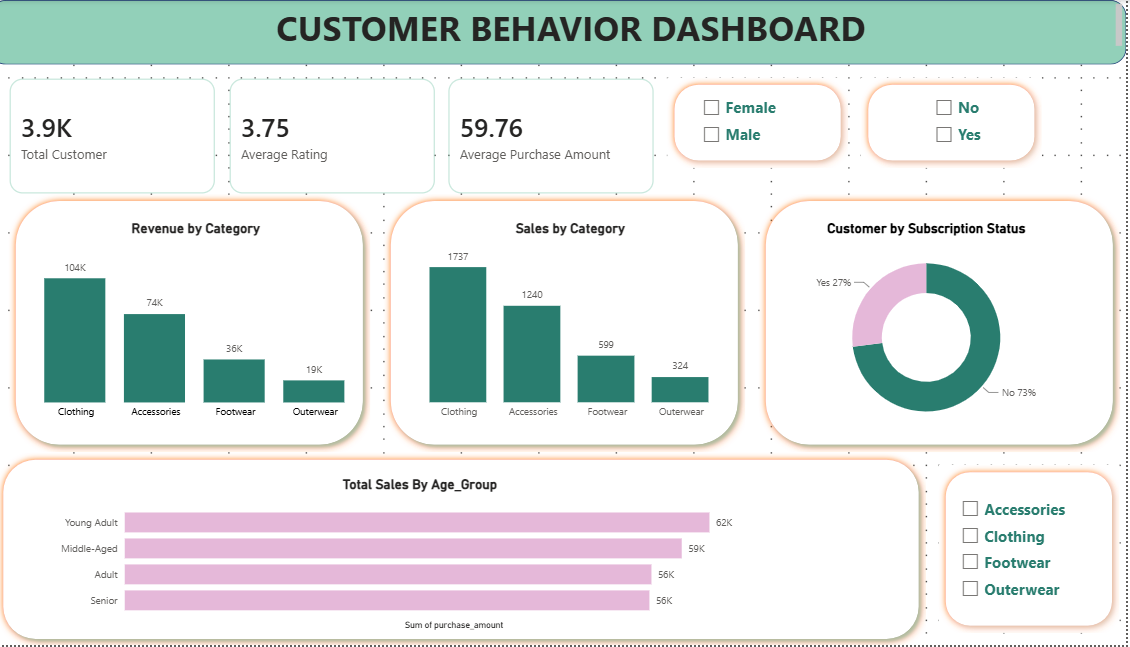

This screenshot's page, from the dashboard's own definition file:
{"tool":"powerbi","page":{"name":"Page 1","canvas":[1400,800],"ordinal":0},"visuals":[{"type":"shape","box":[1072,96,224,112],"z":0,"group":"g5"},{"type":"shape","box":[16,240,448,320],"z":0,"group":"g1"},{"type":"shape","box":[0,560,1152,240],"z":0,"group":"g3"},{"type":"shape","box":[832,96,224,112],"z":1000},{"type":"columnChart","title":"Revenue by Category","fields":{"Category":["analysis mytable.category"],"Y":["Sum(analysis mytable.purchase_amount)"]},"box":[16,272,464,256],"z":1000,"group":"g1"},{"type":"clusteredBarChart","title":"Total Sales By Age_Group","fields":{"Category":["analysis mytable.age_group"],"Y":["Sum(analysis mytable.purchase_amount)"]},"box":[69,590,910.9,195],"z":1000,"group":"g3"},{"type":"shape","box":[1168,576,224,208],"z":2000},{"type":"cardVisual","fields":{"Data":["analysis mytable.Total Customer"]},"box":[0,80,288,176],"z":3000},{"type":"shape","box":[-8,0,1408,80],"z":4000},{"type":"textbox","box":[248,0,1152,64],"z":5000},{"type":"shape","box":[944,240,448,320],"z":5000,"group":"g4"},{"type":"cardVisual","fields":{"Data":["analysis mytable.Average Rating"]},"box":[272,80,288,176],"z":6000},{"type":"donutChart","title":"Customer by Subscription Status","fields":{"Category":["analysis mytable.subscription_status"],"Y":["Count(analysis mytable.customer_id)"]},"box":[944,272,416,272],"z":6000,"group":"g4"},{"type":"cardVisual","fields":{"Data":["analysis mytable.Average Purchase Amount"]},"box":[544,80,288,176],"z":7000},{"type":"group","id":"g1","title":"Group 1","box":[16,240,464,320],"z":8000},{"type":"shape","box":[480,240,448,320],"z":8000,"group":"g2"},{"type":"group","id":"g2","title":"Group 2","box":[480,240,448,320],"z":9000},{"type":"columnChart","title":"Sales by Category","fields":{"Y":["Count(analysis mytable.customer_id)"],"Category":["analysis mytable.category"]},"box":[496,272,432,256],"z":9000,"group":"g2"},{"type":"group","id":"g3","title":"Group 3","box":[0,560,1152,240],"z":10000},{"type":"group","id":"g4","title":"Group 5","box":[944,240,448,320],"z":11000},{"type":"slicer","fields":{"Values":["analysis mytable.gender"]},"box":[864,112,144,96],"z":12000},{"type":"slicer","fields":{"Values":["analysis mytable.category"]},"box":[1184,608,192,192],"z":13000},{"type":"slicer","fields":{"Values":["analysis mytable.subscription_status"]},"box":[1152,112,128,128],"z":14000,"group":"g5"},{"type":"group","id":"g5","title":"Group 4","box":[1072,96,224,144],"z":14001}]}

Visuals, with their boxes in screenshot pixels (x1, y1, x2, y2), scaled from the page's 1400x800 canvas onto the 1130x647 screenshot:
shape: l=865, t=78, r=1046, b=168
shape: l=13, t=194, r=375, b=453
shape: l=0, t=453, r=930, b=646
shape: l=672, t=78, r=852, b=168
"Revenue by Category" columnChart: l=13, t=220, r=387, b=427
"Total Sales By Age_Group" clusteredBarChart: l=56, t=477, r=791, b=635
shape: l=943, t=466, r=1124, b=634
cardVisual - analysis mytable.Total Customer: l=0, t=65, r=232, b=207
shape: l=0, t=0, r=1129, b=65
textbox: l=200, t=0, r=1129, b=52
shape: l=762, t=194, r=1124, b=453
cardVisual - analysis mytable.Average Rating: l=220, t=65, r=452, b=207
"Customer by Subscription Status" donutChart: l=762, t=220, r=1098, b=440
cardVisual - analysis mytable.Average Purchase Amount: l=439, t=65, r=672, b=207
"Group 1" group: l=13, t=194, r=387, b=453
shape: l=387, t=194, r=749, b=453
"Group 2" group: l=387, t=194, r=749, b=453
"Sales by Category" columnChart: l=400, t=220, r=749, b=427
"Group 3" group: l=0, t=453, r=930, b=646
"Group 5" group: l=762, t=194, r=1124, b=453
slicer - analysis mytable.gender: l=697, t=91, r=814, b=168
slicer - analysis mytable.category: l=956, t=492, r=1111, b=646
slicer - analysis mytable.subscription_status: l=930, t=91, r=1033, b=194
"Group 4" group: l=865, t=78, r=1046, b=194
